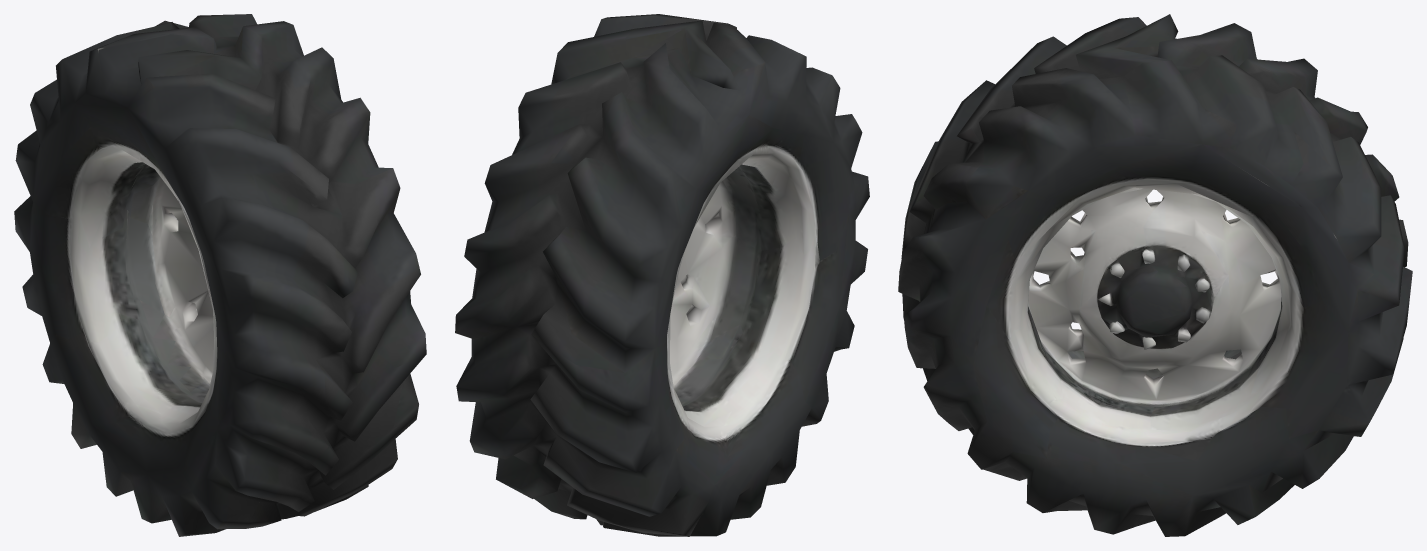
File: buyuk-traktor-teker-arka.glb
The picture shows the model from 3 angles, left to right: view 1: azimuth 30°, elevation 25°; view 2: azimuth 150°, elevation 25°; view 3: azimuth 270°, elevation 25°; orthographic projection.
Visible parts, largest first — view 1: tripo_node_870d8a98-7d80-44e4-8517-258026f3e461; view 2: tripo_node_870d8a98-7d80-44e4-8517-258026f3e461; view 3: tripo_node_870d8a98-7d80-44e4-8517-258026f3e461.
Part boxes in pixels (<box>): tripo_node_870d8a98-7d80-44e4-8517-258026f3e461: <box>14,14,426,536</box>; tripo_node_870d8a98-7d80-44e4-8517-258026f3e461: <box>455,14,869,536</box>; tripo_node_870d8a98-7d80-44e4-8517-258026f3e461: <box>898,14,1412,536</box>.
Size of the model in its own units: 0.3934 by 0.9796 by 0.9848.
1 material, 1 textured.
